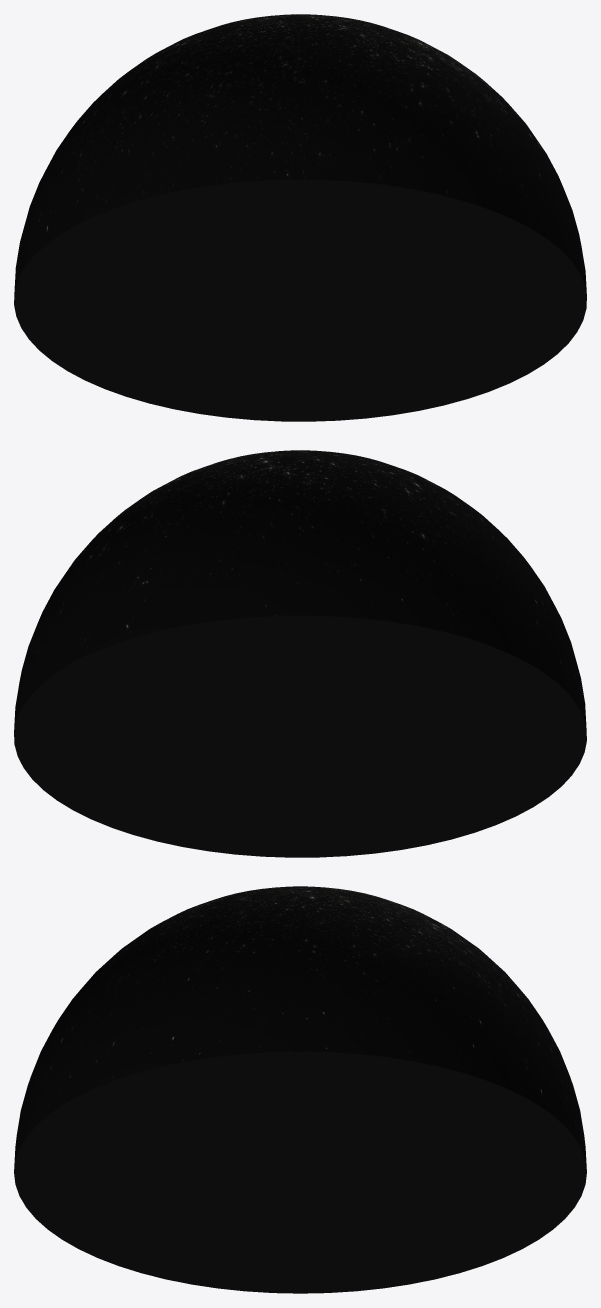
File: nightsky.fbx
The picture shows the model from 3 angles, top to bottom: view 1: azimuth 30°, elevation 25°; view 2: azimuth 150°, elevation 25°; view 3: azimuth 270°, elevation 25°; orthographic projection.
Parts seen in each view (by area): view 1: nightsky; view 2: nightsky; view 3: nightsky.
Boxes of the visible parts, bbox=[...] form: nightsky: bbox=[14, 14, 586, 421]; nightsky: bbox=[14, 450, 586, 857]; nightsky: bbox=[14, 886, 586, 1293].
Size of the model in its own units: 20000 by 10000 by 20000.
